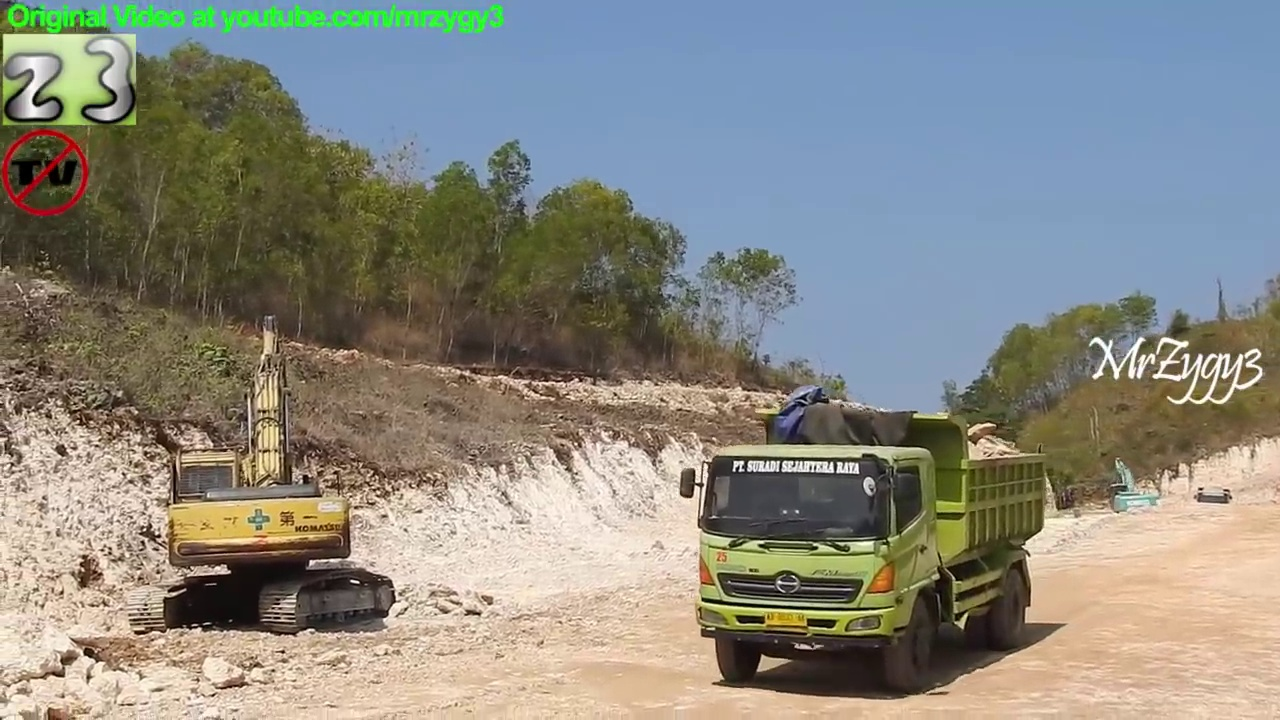excavator: (1100, 454, 1164, 524)
excavator breaker: (123, 307, 403, 641)
truck: (674, 385, 1060, 699), (1189, 481, 1238, 528)
